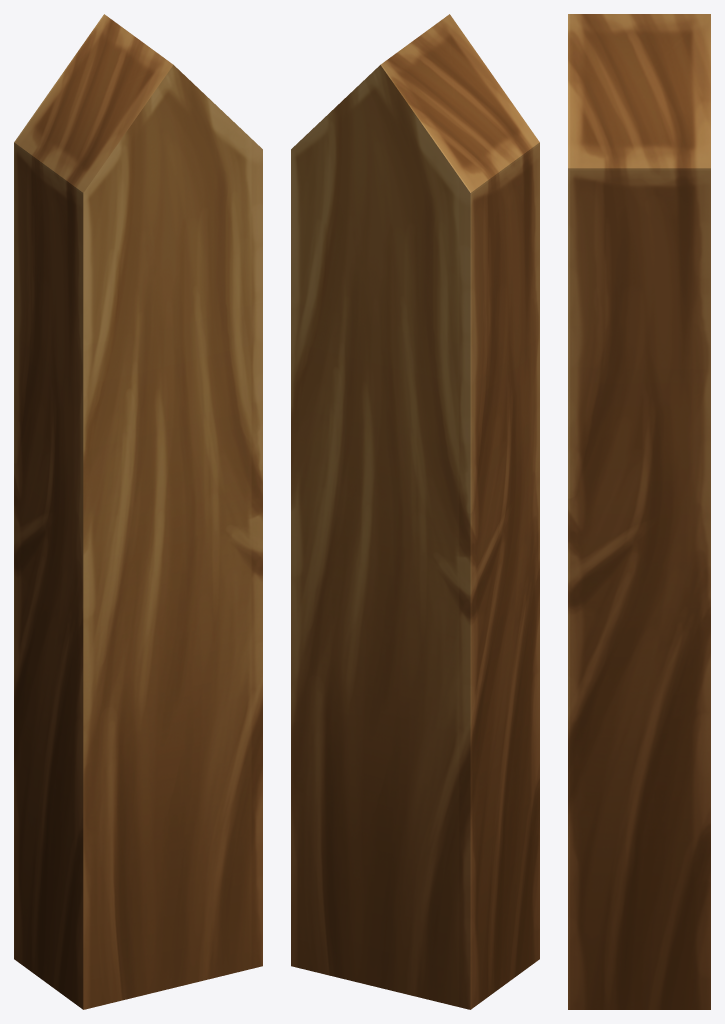
Rendered from Fence_board.fbx.
3 renders of one model, left to right at view 1: azimuth 30°, elevation 25°; view 2: azimuth 150°, elevation 25°; view 3: azimuth 270°, elevation 25°, orthographic. The views are drawn at different scales.
Parts seen in each view (by area): view 1: Fence_board; view 2: Fence_board; view 3: Fence_board.
Boxes of the visible parts, bbox=[...] form: Fence_board: bbox=[14, 14, 262, 1009]; Fence_board: bbox=[291, 14, 539, 1009]; Fence_board: bbox=[568, 14, 710, 1009].
Bounding box in the file's own units: 0.2987 × 1.47 × 0.2.
